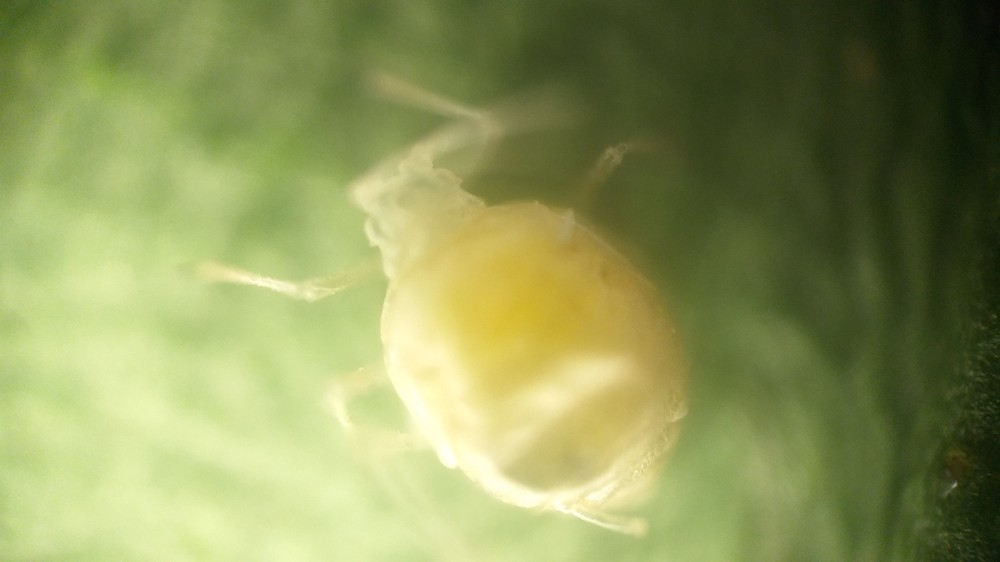Pulgon: (183, 58, 775, 553)
